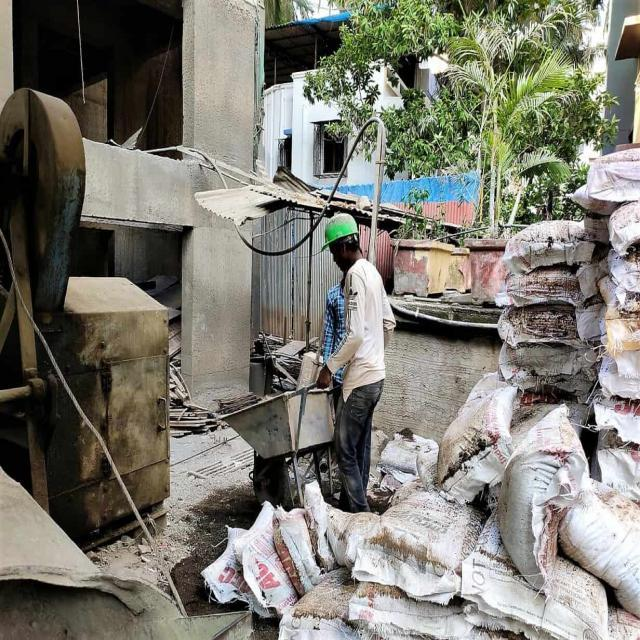safety_helmet: (321, 212, 363, 246)
